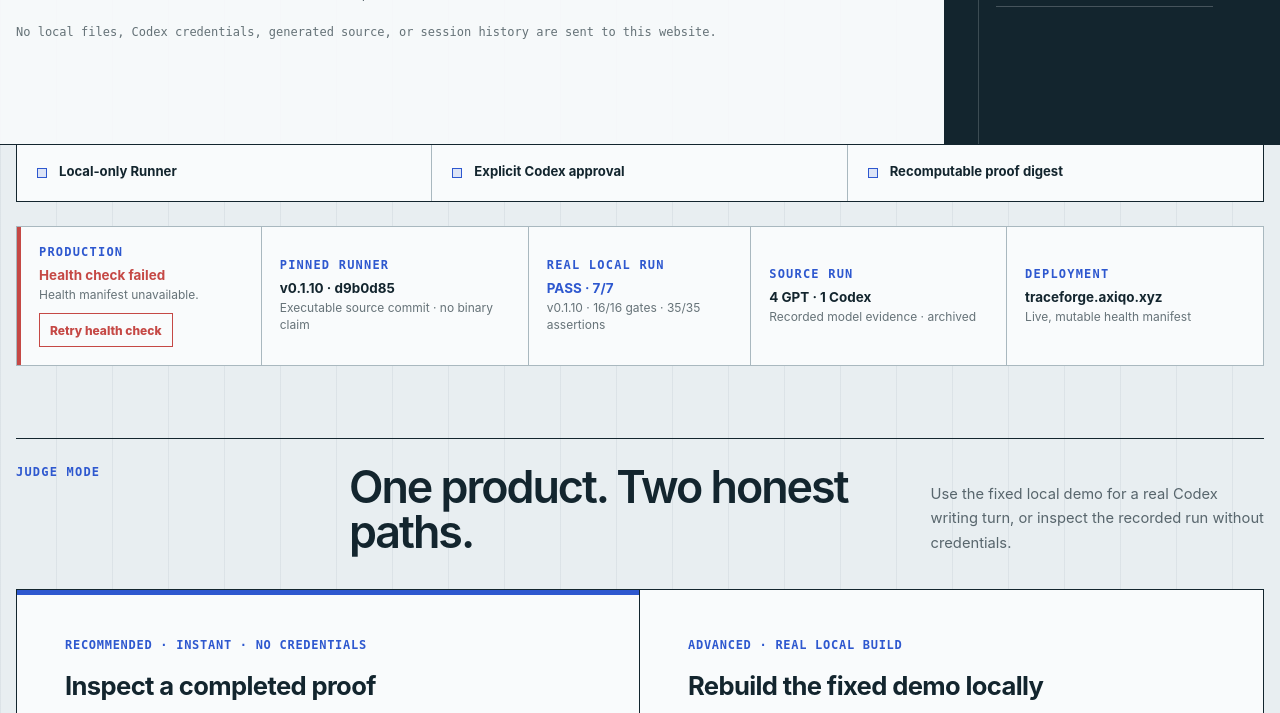
TraceForge › turns a failed health check into an explicit retryable state
This screenshot has width=1280, height=713.
(page scrolled)
expect the text "Health check failed" is shown: met, box [39,266,165,282]
expect the text "Health manifest unavailable." is shown: met, box [39,286,199,302]
Click the button "Retry health check" at (106, 330), box [39,313,173,347]
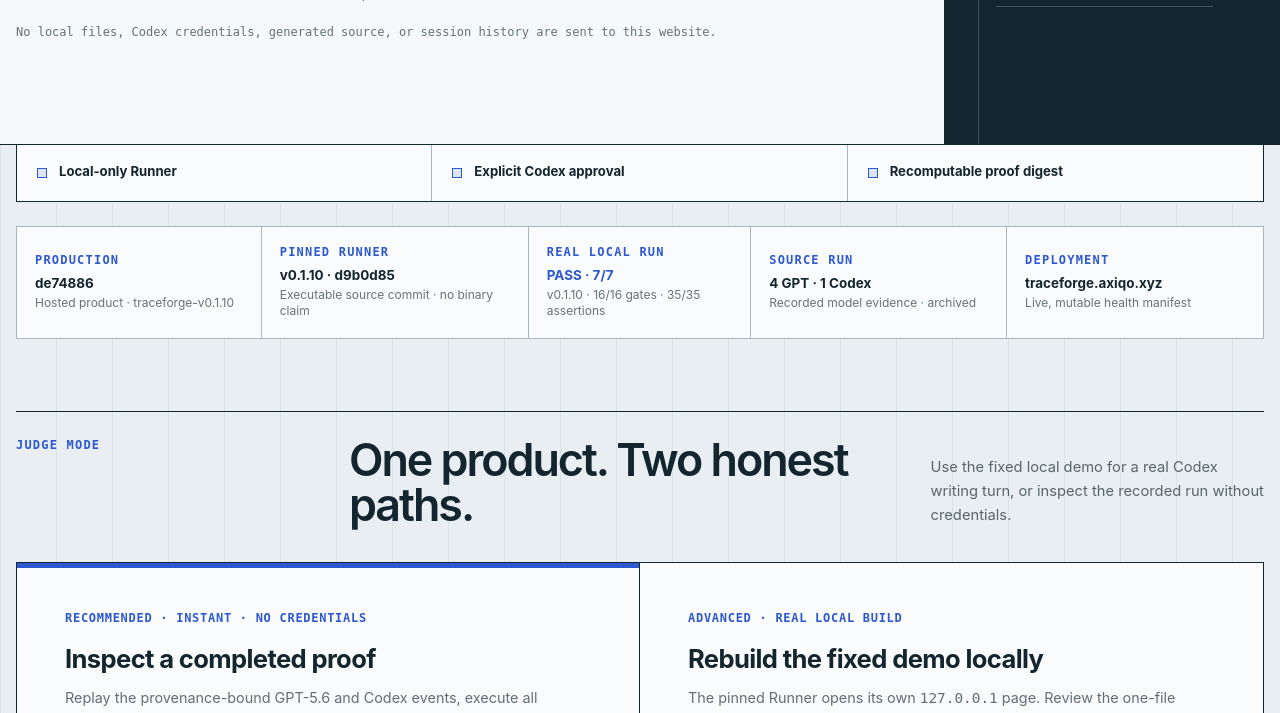
expect the link "Production de74886 Hosted product · traceforge-v0.1.10" is shown: met, box [17,226,262,338]
expect the button "Retry health check" is gone: met
